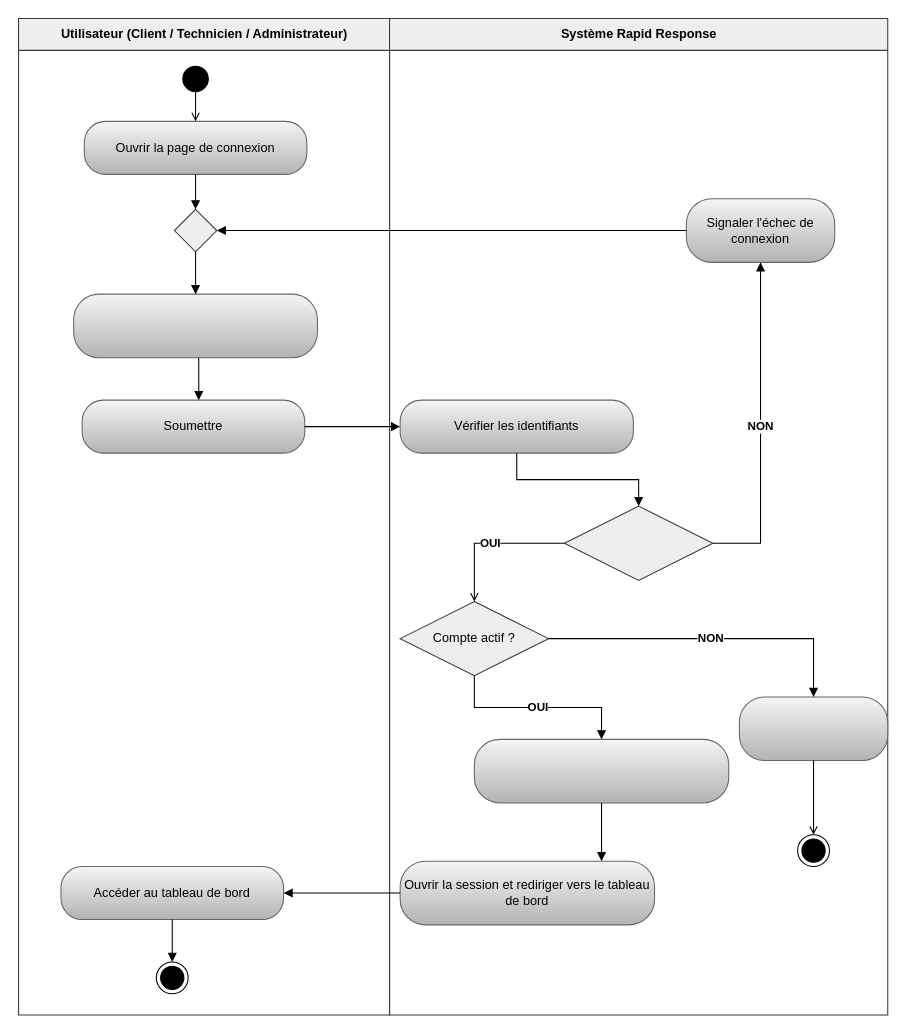
The diagram is 906 pixels wide and 1034 high, and some of its shapes have lost their labels. Here are the shapes that lost their labels. From the top down, the centre of each, then its label:
At [195,325]: "Saisir les informations de connexion".
At [638,542]: "Identifiants valides ?".
At [813,728]: "Refuser : compte désactivé".
At [601,770]: "Générer les jetons (accès + rafraîchissement) et appliquer le rôle".
